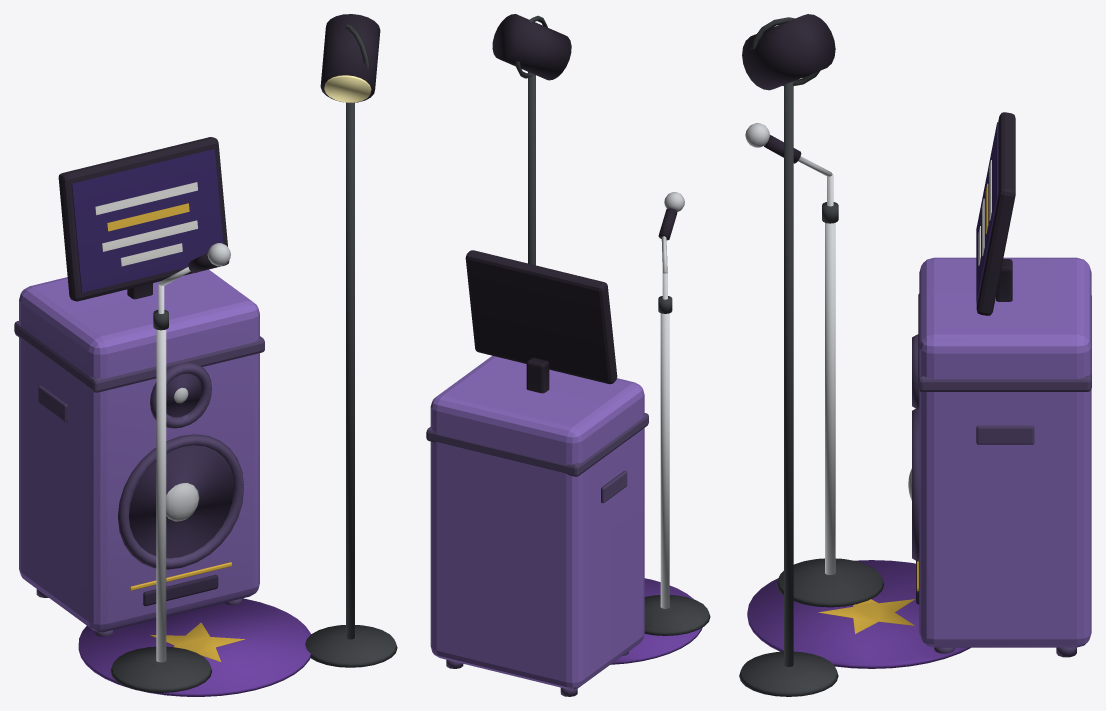
The model's file is karaokeMachine.glb.
3 renders of one model, left to right at view 1: azimuth 30°, elevation 25°; view 2: azimuth 150°, elevation 25°; view 3: azimuth 270°, elevation 25°, orthographic. The views are drawn at different scales.
Visible parts, largest first — view 1: body, mic; view 2: body, mic; view 3: body, mic.
Boxes of the visible parts, x1,y1,x2,y2 form: body: (14, 14, 397, 696); mic: (158, 243, 230, 313); body: (426, 14, 710, 696); mic: (658, 192, 684, 299); body: (739, 14, 1091, 696); mic: (745, 123, 833, 206).
Bounding box in the file's own units: 0.76 × 1.77 × 0.851.
